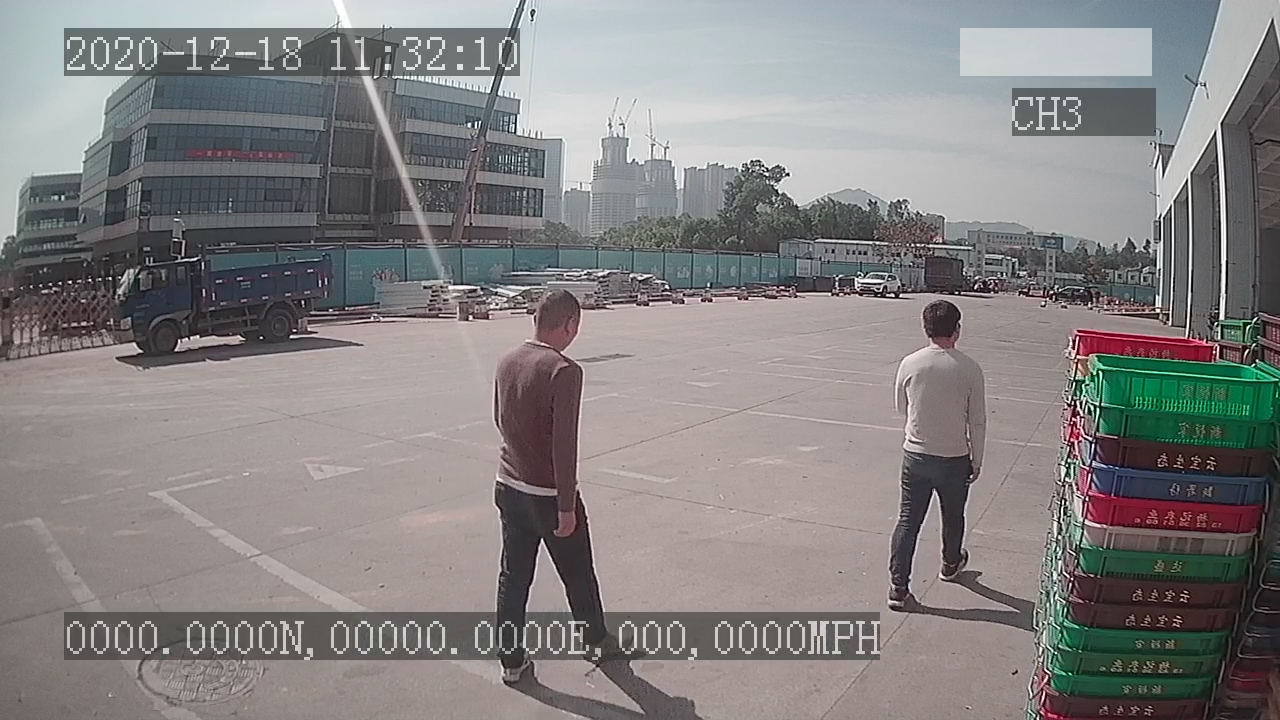person: (883, 301, 992, 608)
